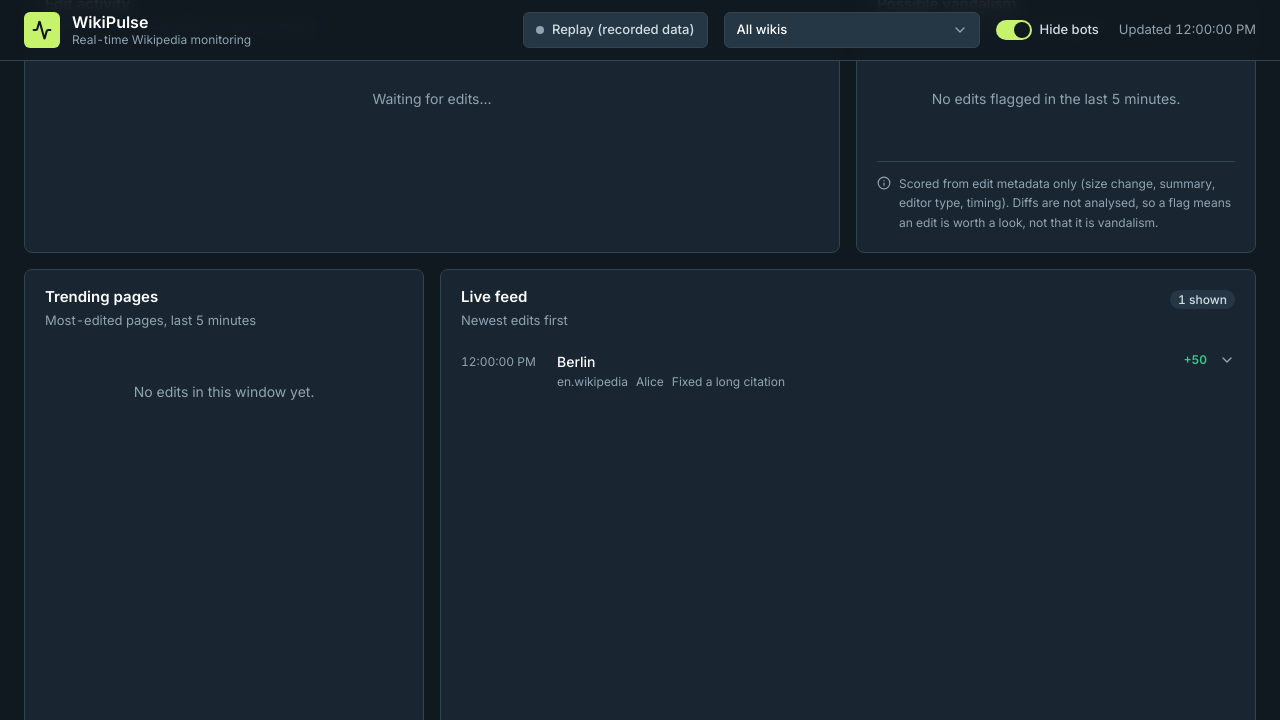
Scenario: Dashboard › feed items expand to show full details
The width and height of the screenshot is (1280, 720).
(page scrolled)
Click the button named "Show edit details": (1227, 360) [1215,348,1239,372]
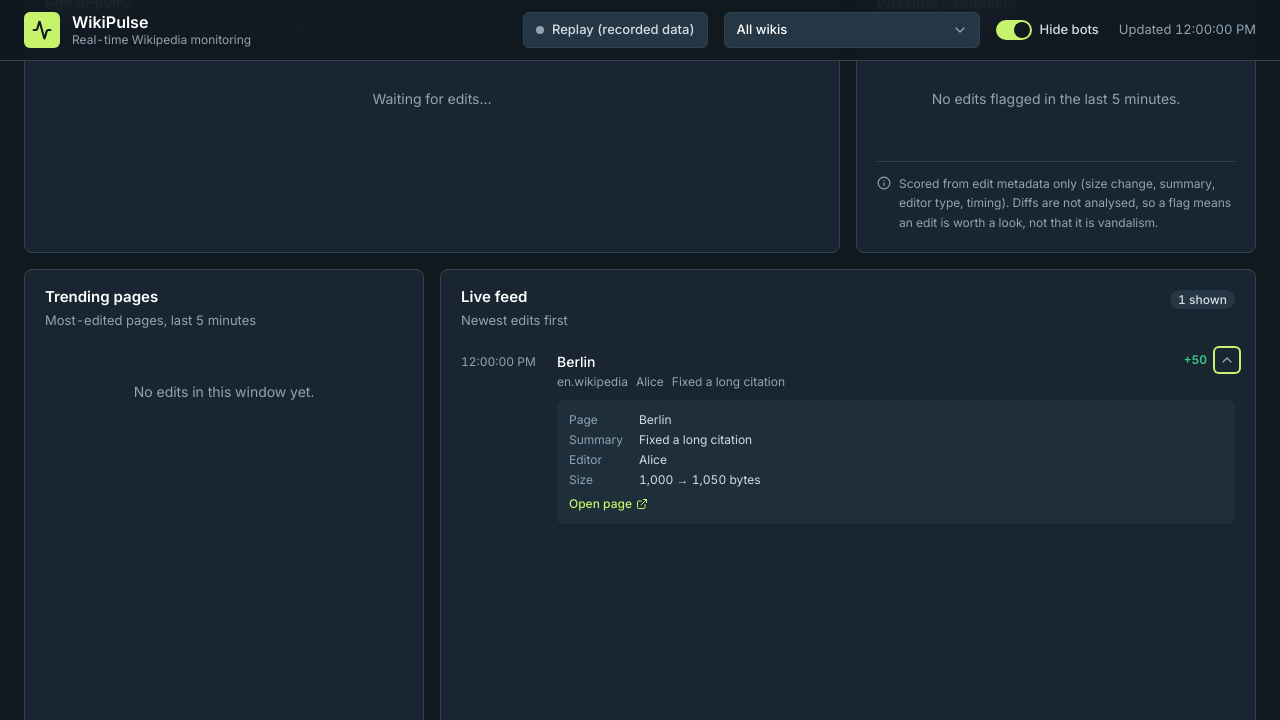
expect the text "Summary" is shown: met, box [569,432,623,448]
expect the button named "Hide edit details" is expanded: met, box [1215,348,1239,372]
